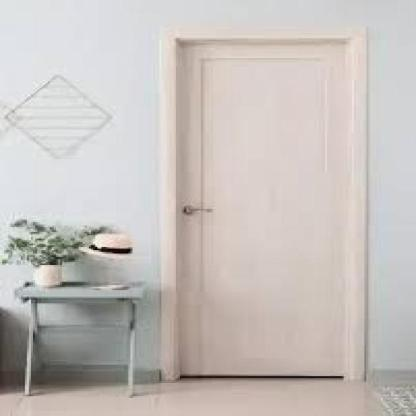door: (153, 23, 373, 388)
